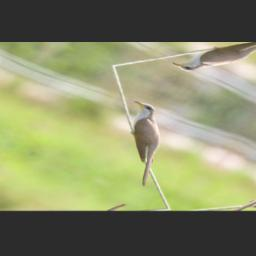Cuckoo: (74, 98, 206, 189)
